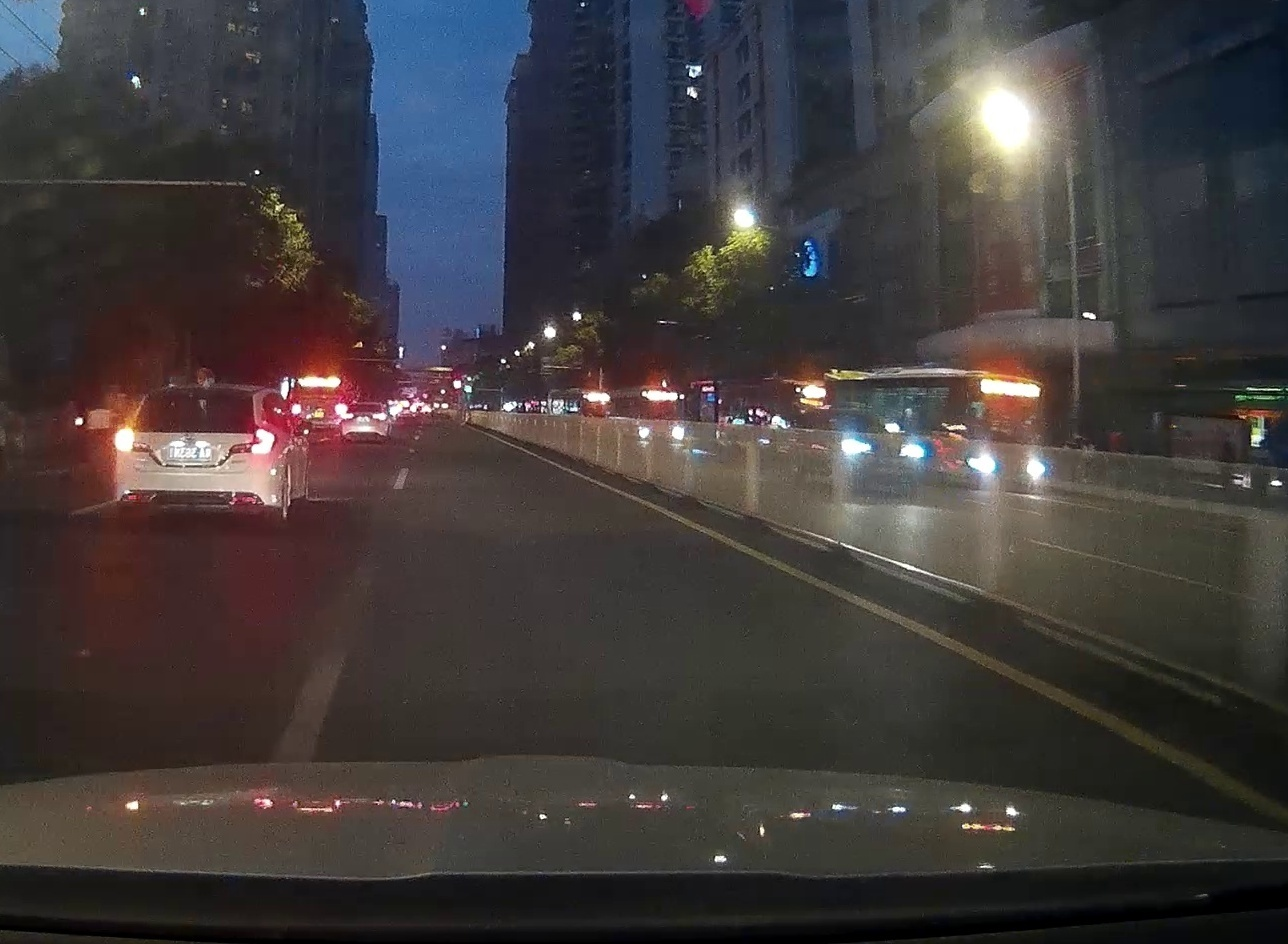L_light: (113, 427, 152, 453)
R_light: (228, 429, 275, 455)
T_light: (187, 388, 212, 392)
night-no: (114, 382, 282, 530)
